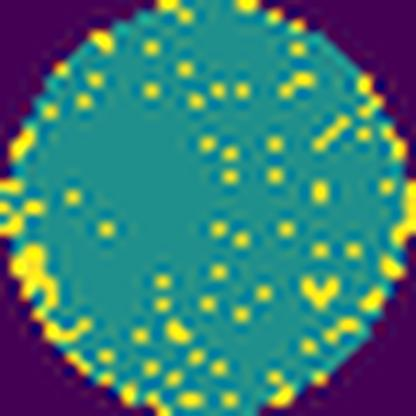Edge-Loc: (10, 244, 90, 345), (386, 178, 416, 251)
